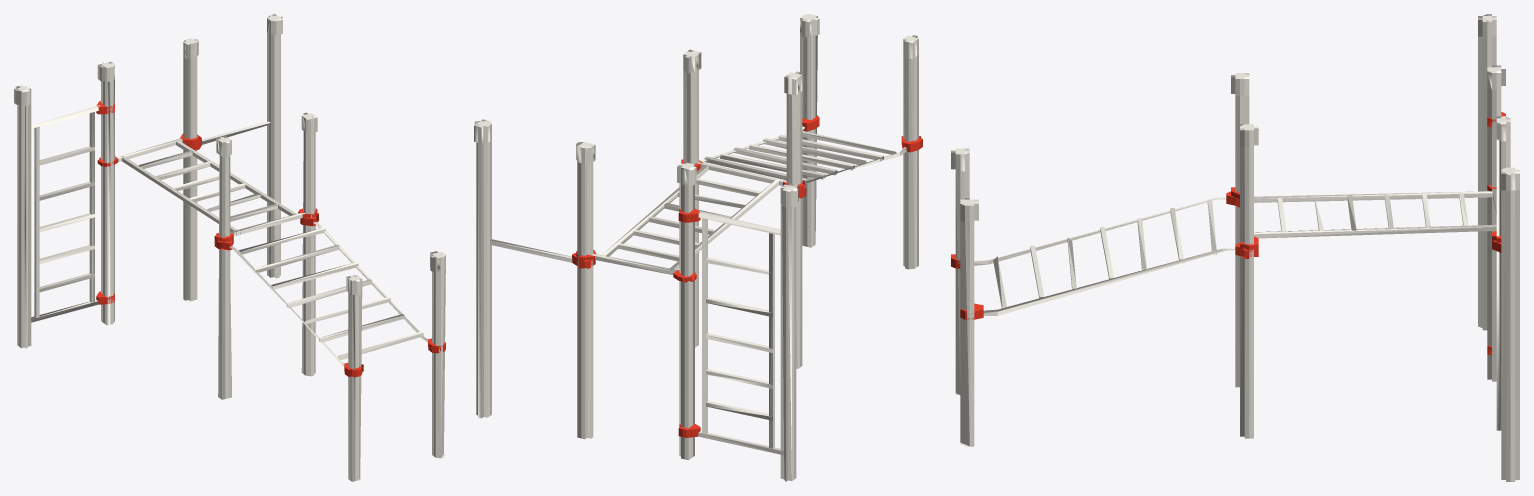
The model's file is Детский комплекс_2.glb.
3 views of the same model, side by side, from view 1: azimuth 30°, elevation 25°; view 2: azimuth 150°, elevation 25°; view 3: azimuth 270°, elevation 25° (orthographic). The views are drawn at different scales.
Visible parts, largest first — view 1: Curbed_Area001.003; view 2: Curbed_Area001.003; view 3: Curbed_Area001.003.
Part boxes in pixels (x1=…): Curbed_Area001.003: x1=14, y1=14, x2=445, y2=481; Curbed_Area001.003: x1=474, y1=14, x2=922, y2=481; Curbed_Area001.003: x1=951, y1=14, x2=1519, y2=481.
Size of the model in its own units: 2.81 by 2.5 by 4.18.
Materials: 1 (1 with a texture image).
